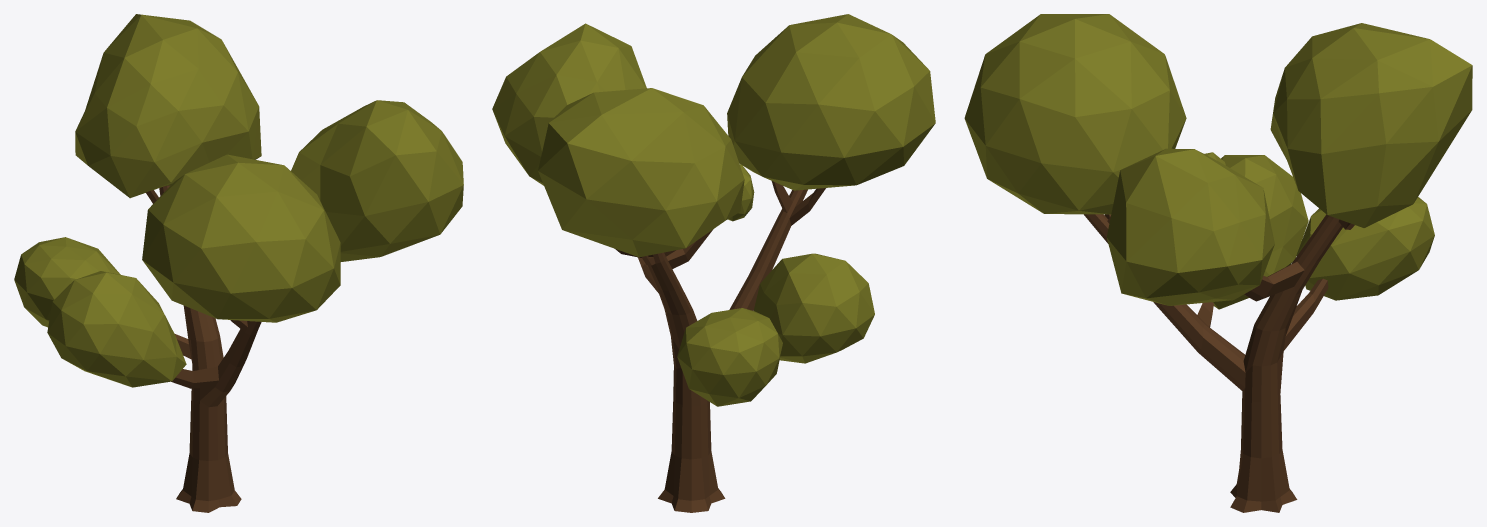
The picture shows the model from 3 angles, left to right: view 1: azimuth 30°, elevation 25°; view 2: azimuth 150°, elevation 25°; view 3: azimuth 270°, elevation 25°; orthographic projection. The views are drawn at different scales.
Visible parts, largest first — view 1: Icosphere.001, Cylinder.009; view 2: Icosphere.001, Cylinder.009; view 3: Icosphere.001, Cylinder.009.
Part boxes in pixels (box(x1,y1,x2,y2)): Icosphere.001: box(14, 14, 463, 387); Cylinder.009: box(146, 185, 261, 512); Icosphere.001: box(492, 14, 935, 406); Cylinder.009: box(615, 181, 825, 512); Icosphere.001: box(964, 14, 1472, 309); Cylinder.009: box(1084, 214, 1354, 512).
Size of the model in its own units: 7.99 by 8.71 by 8.54.
